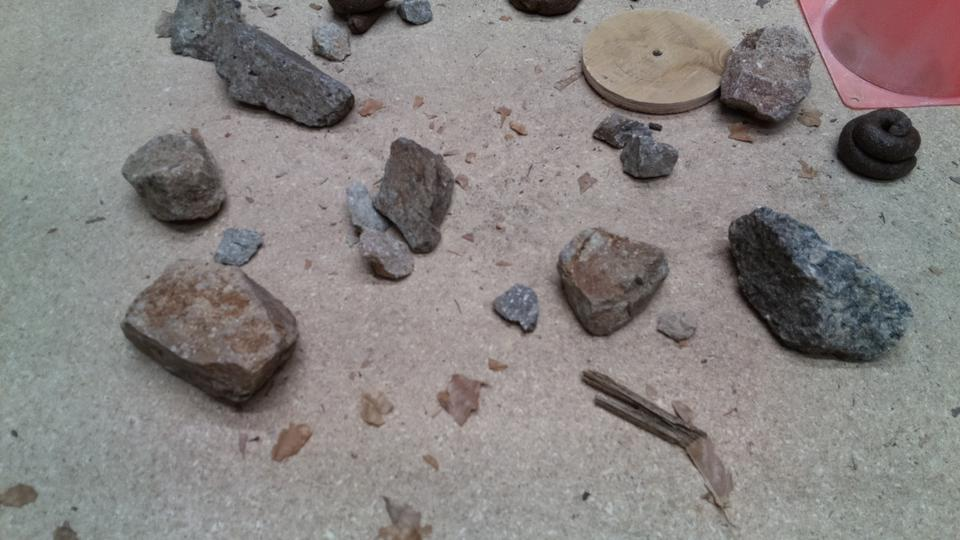poop: (836, 105, 922, 181), (328, 1, 389, 35), (507, 1, 583, 16)
